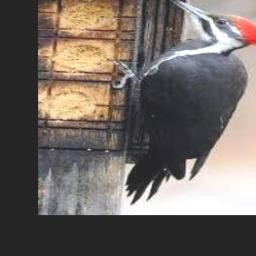Woodpecker: (110, 0, 256, 204)
